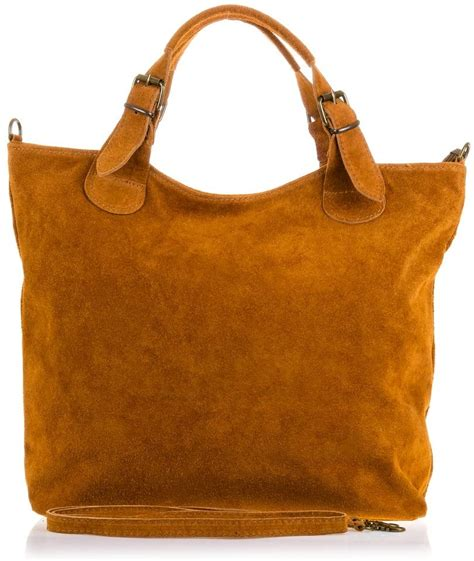gamuza: (4, 133, 467, 539)
